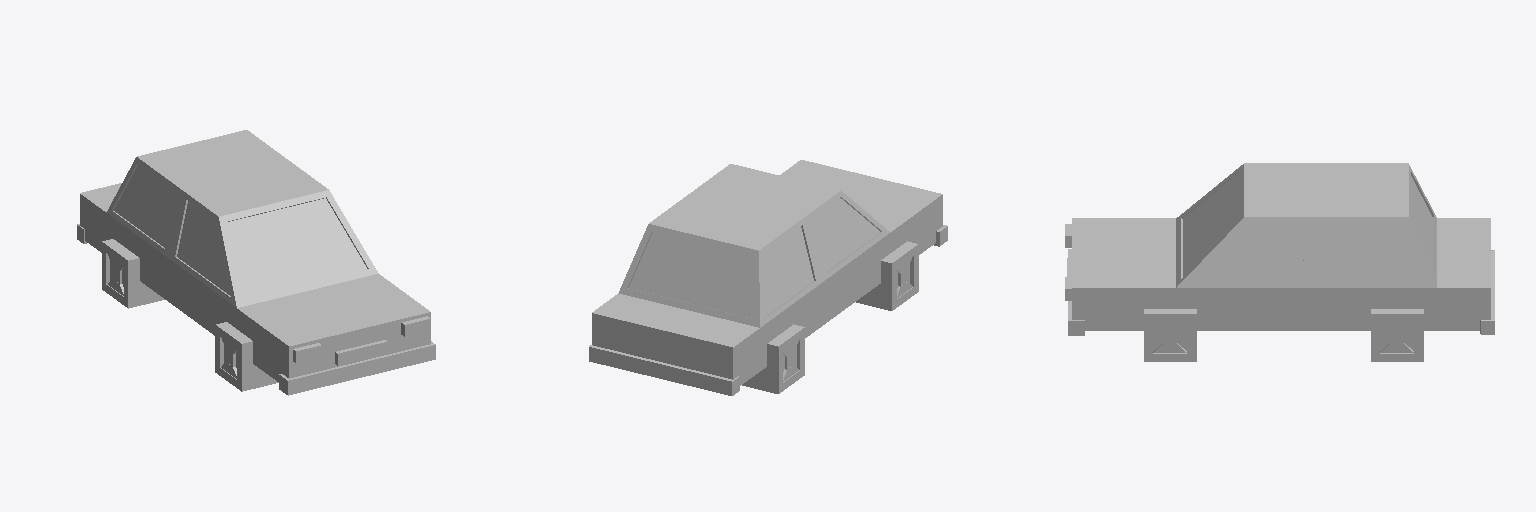
File: car_test1.obj
3 renders of one model, left to right at view 1: azimuth 30°, elevation 25°; view 2: azimuth 150°, elevation 25°; view 3: azimuth 270°, elevation 25°, orthographic.
Parts seen in each view (by area): view 1: car_body_Cube, Cube_Cube.005, Cube.001_Cube.006, car_lights_Cube.001, license_plate_Cube.003; view 2: car_body_Cube, Cube_Cube.005, Cube.001_Cube.006; view 3: car_body_Cube, Cube_Cube.005, Cube.001_Cube.006.
Part boxes in pixels (bbox=[...]): car_body_Cube: bbox=[77, 130, 435, 395]; Cube_Cube.005: bbox=[215, 322, 278, 391]; Cube.001_Cube.006: bbox=[102, 239, 164, 308]; car_lights_Cube.001: bbox=[293, 316, 430, 363]; license_plate_Cube.003: bbox=[335, 340, 386, 365]; car_body_Cube: bbox=[589, 160, 947, 395]; Cube_Cube.005: bbox=[856, 241, 918, 310]; Cube.001_Cube.006: bbox=[742, 324, 804, 393]; car_body_Cube: bbox=[1068, 163, 1494, 335]; Cube_Cube.005: bbox=[1144, 309, 1196, 361]; Cube.001_Cube.006: bbox=[1371, 309, 1423, 361].
Bounding box in the file's own units: 3.29 × 2.51 × 7.44.